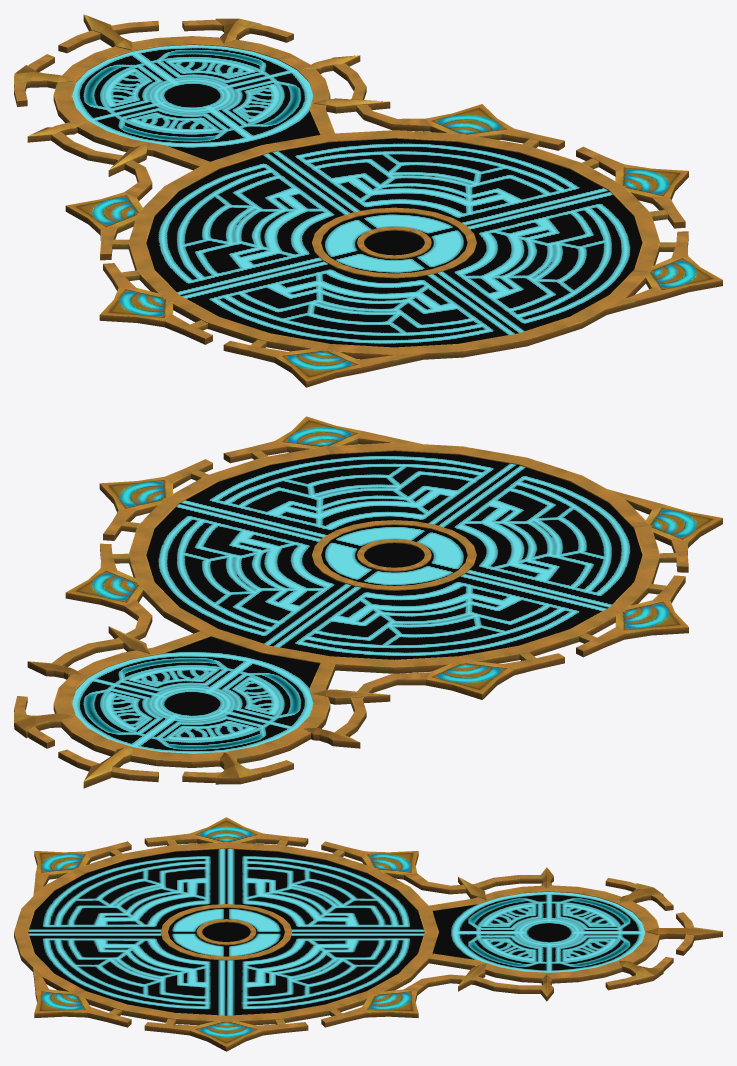
Rendered from Battle03_Plane_01.FBX.
The picture shows the model from 3 angles, top to bottom: view 1: azimuth 30°, elevation 25°; view 2: azimuth 150°, elevation 25°; view 3: azimuth 270°, elevation 25°; orthographic projection. The views are drawn at different scales.
Parts seen in each view (by area): view 1: Battle03_Plane_01_02, Battle03_Plane_01_03; view 2: Battle03_Plane_01_02, Battle03_Plane_01_03; view 3: Battle03_Plane_01_02, Battle03_Plane_01_03.
Boxes of the visible parts, x1,y1,x2,y2 form: Battle03_Plane_01_02: (72,45,642,347); Battle03_Plane_01_03: (14,14,722,387); Battle03_Plane_01_02: (72,451,642,753); Battle03_Plane_01_03: (14,416,722,788); Battle03_Plane_01_02: (28,849,644,1015); Battle03_Plane_01_03: (14,817,722,1051).
Size of the model in its own units: 33.17 by 0.6211 by 43.25.
